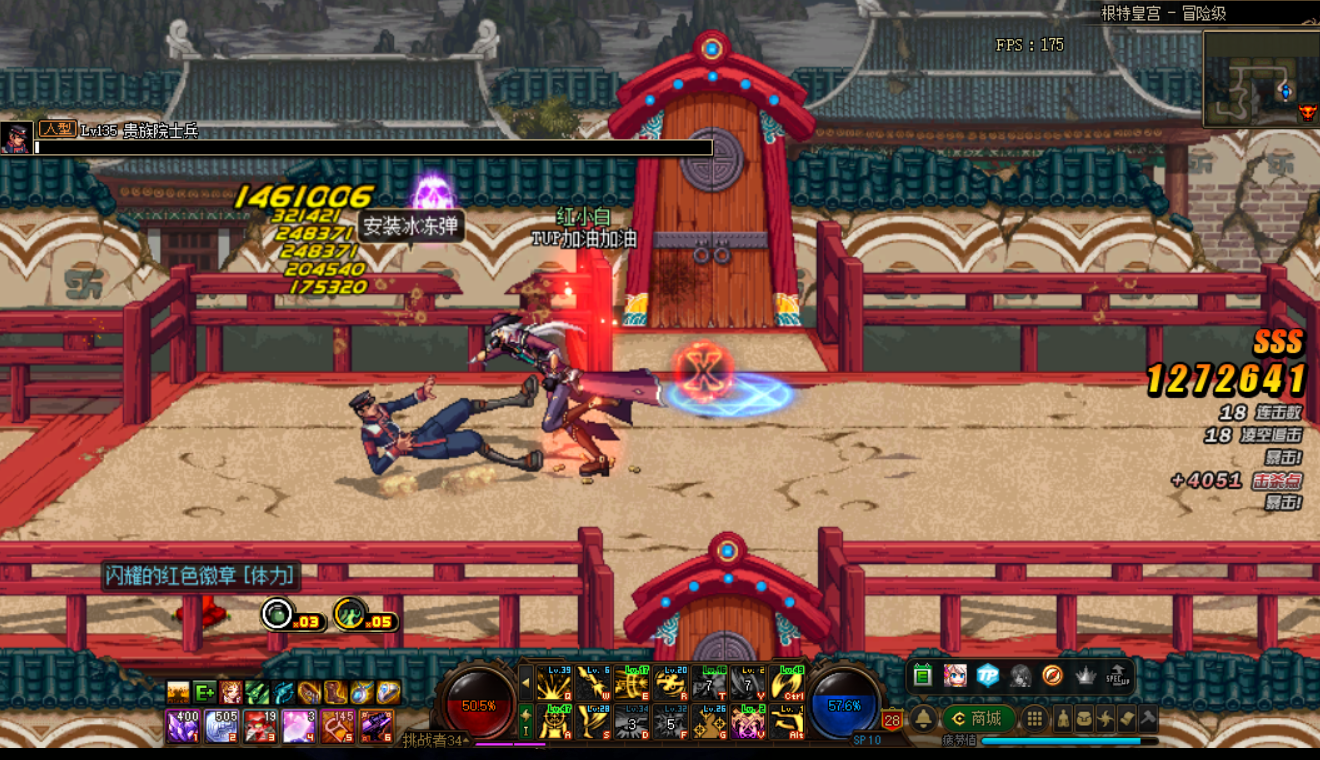monster: (331, 374, 556, 476)
warrior: (462, 299, 658, 479)
